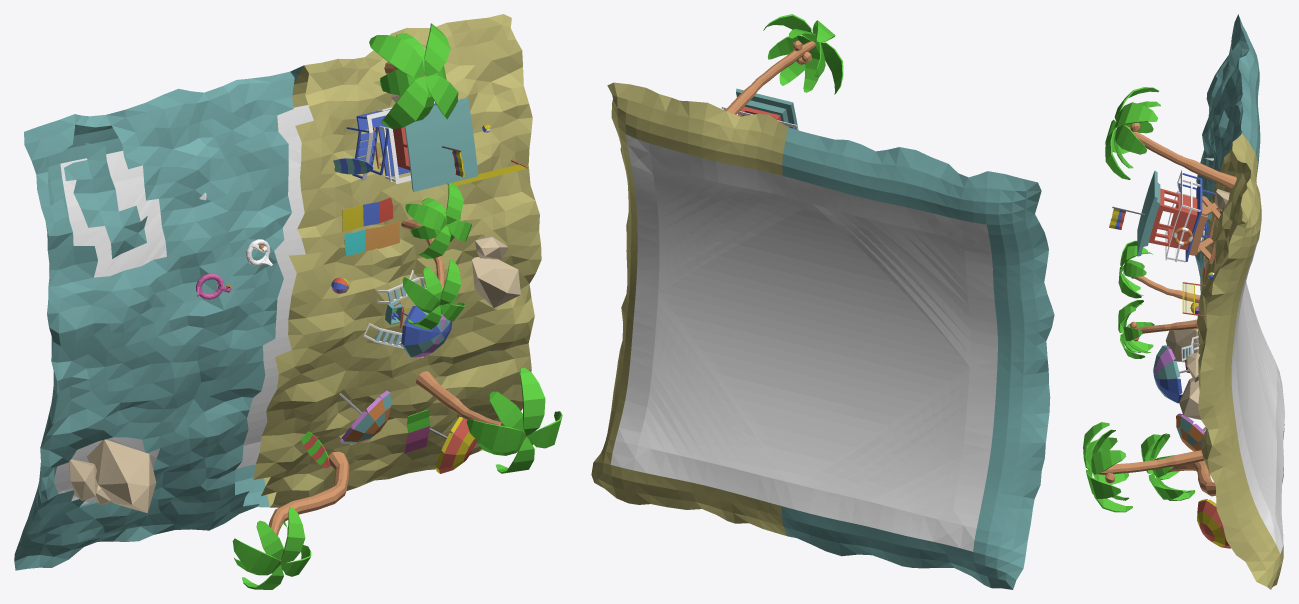
The model's file is beach_v2_opt.glb.
The picture shows the model from 3 angles, left to right: view 1: azimuth 30°, elevation 25°; view 2: azimuth 150°, elevation 25°; view 3: azimuth 270°, elevation 25°; orthographic projection. The views are drawn at different scales.
Size of the model in its own units: 2.02 by 2.1 by 0.8409.
